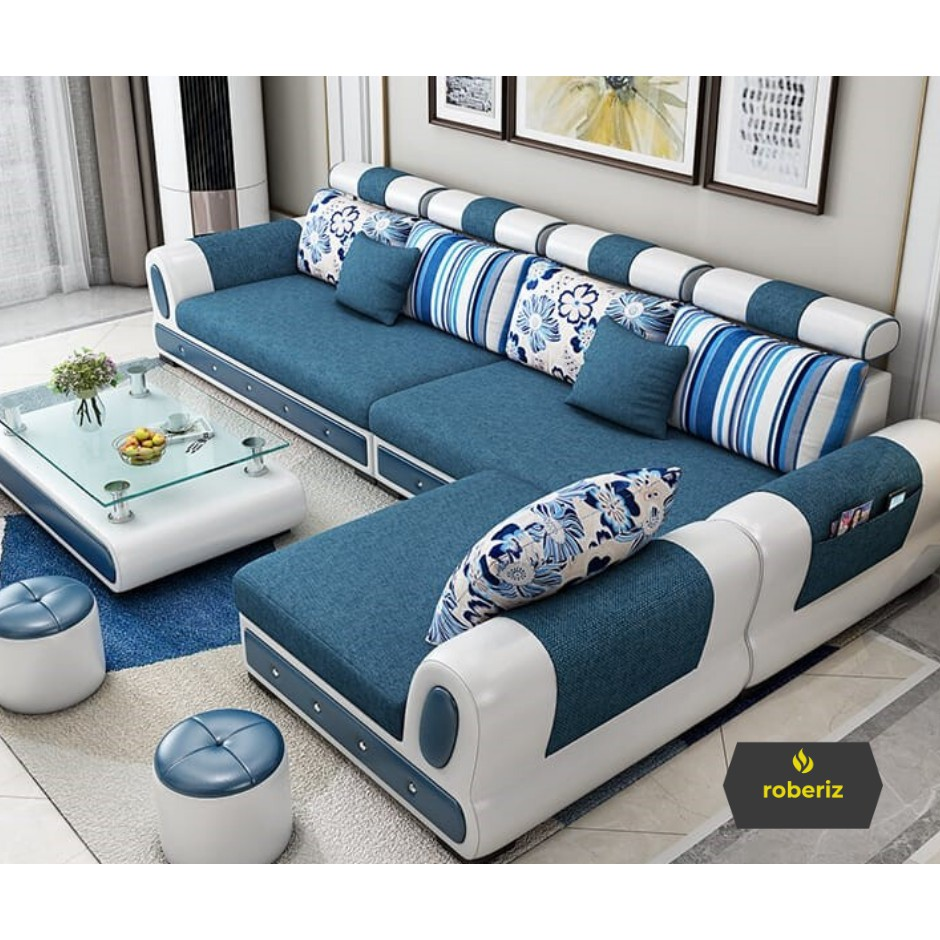lukisan: (516, 80, 696, 180), (710, 67, 826, 214), (429, 70, 510, 142)
meja: (5, 369, 310, 581)
sova: (308, 470, 940, 841), (121, 183, 940, 469)
